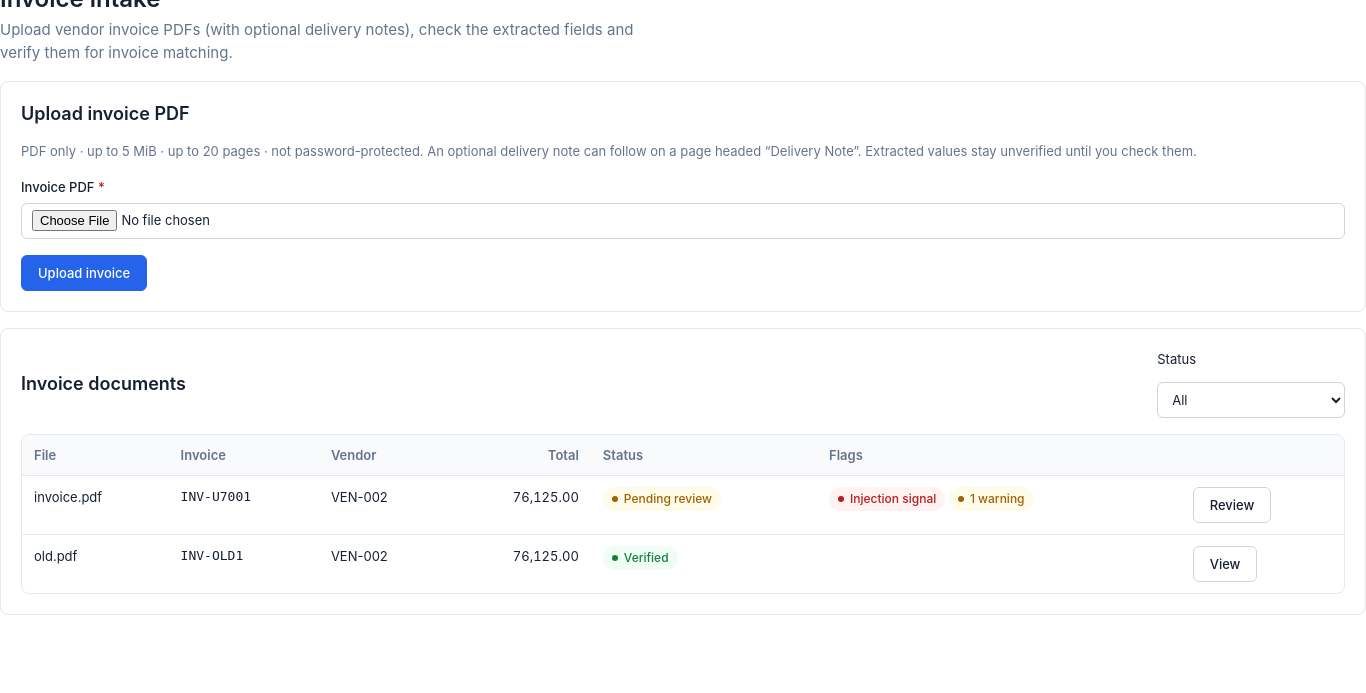
Test: InvoiceIntakePage › pre-fills the verify form, shows warnings and injection flags, and blocks bad arithmetic
Click the button "Review" at (1232, 505), box [1193, 487, 1271, 523]
(page scrolled)
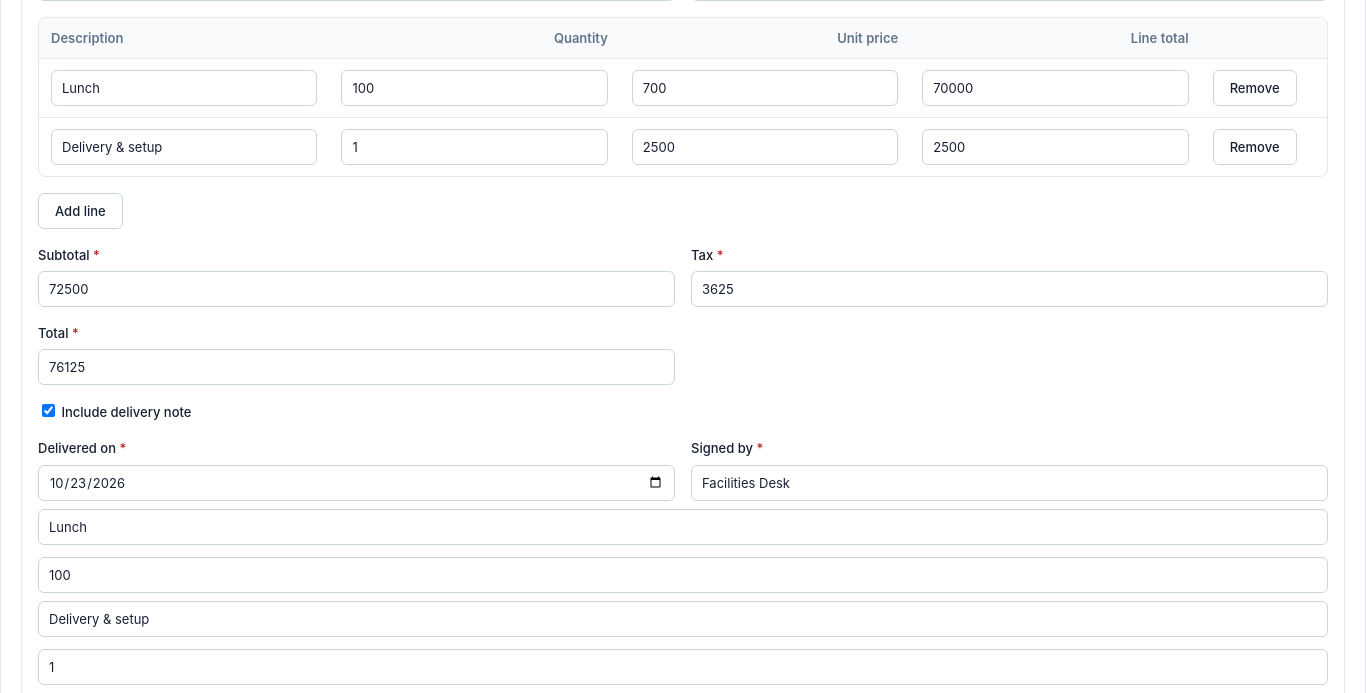
Now the field named "Line 1 line total" holds "70000", box [922, 70, 1189, 106]
Replace the text in the field labelled "Total" with "80000" at (356, 367), box [38, 349, 675, 385]
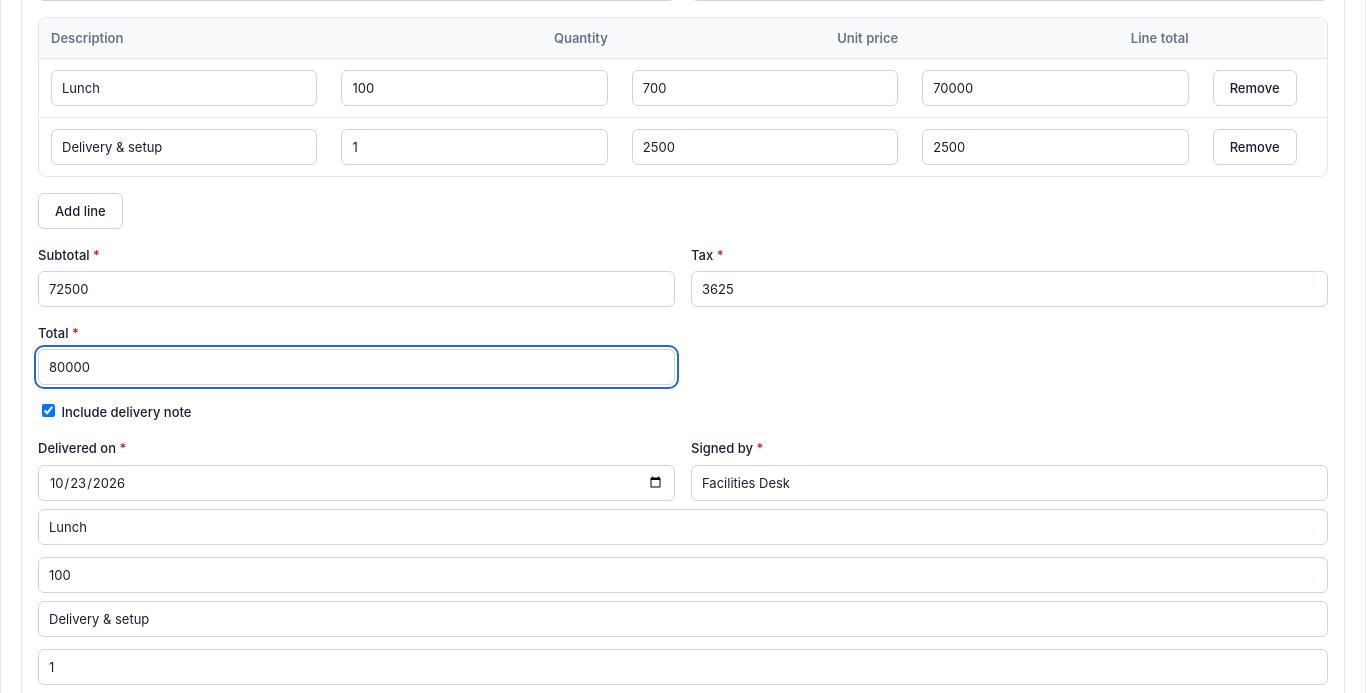
Replace the text in the field labelled "Total" with "76125" at (356, 367), box [38, 349, 675, 385]
(page scrolled)
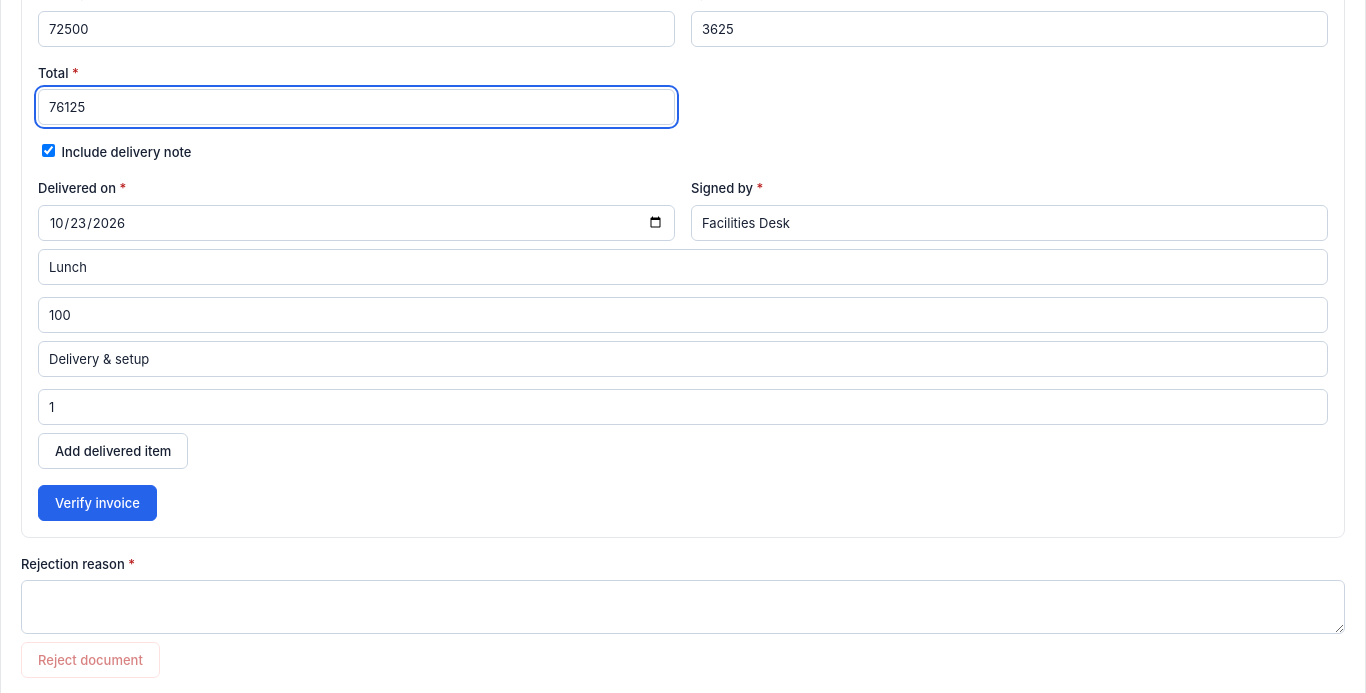
Click the button "Verify invoice" at (97, 503), box [38, 485, 157, 521]
(page scrolled)
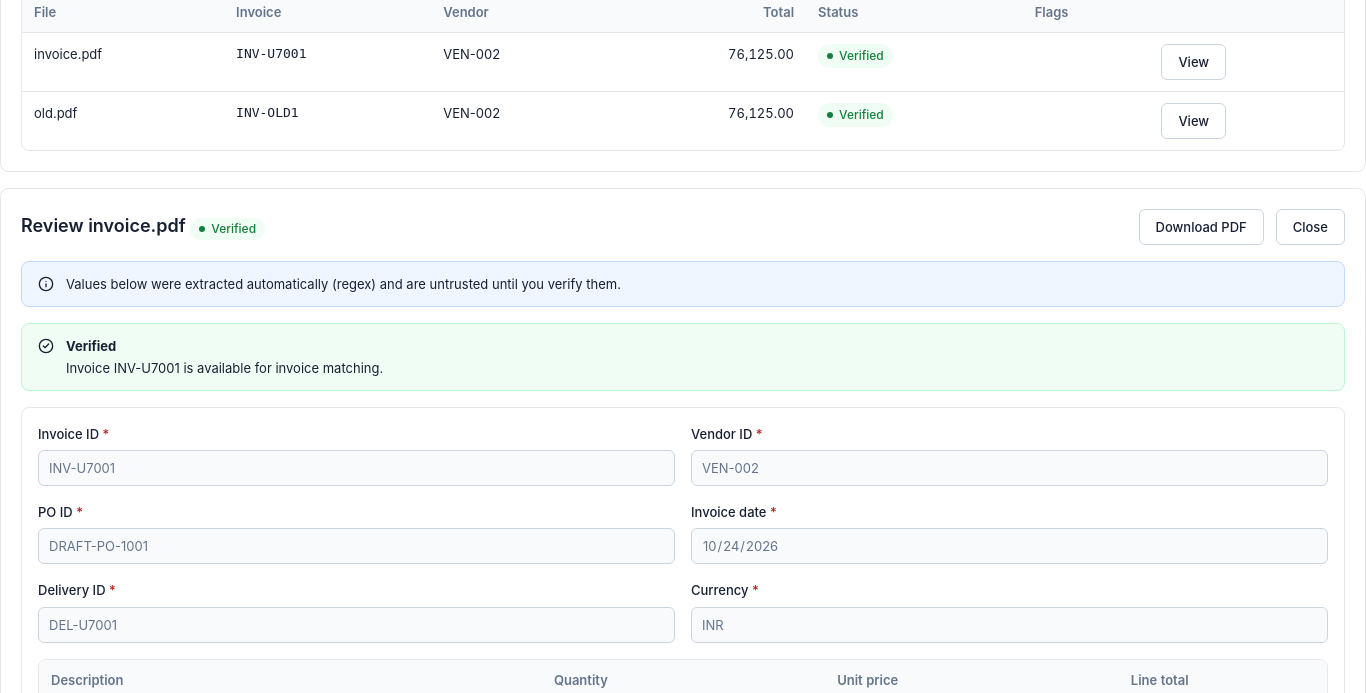
Now the text "Invoice INV-U7001 is available for invoice matching." is shown, box [66, 358, 383, 378]
